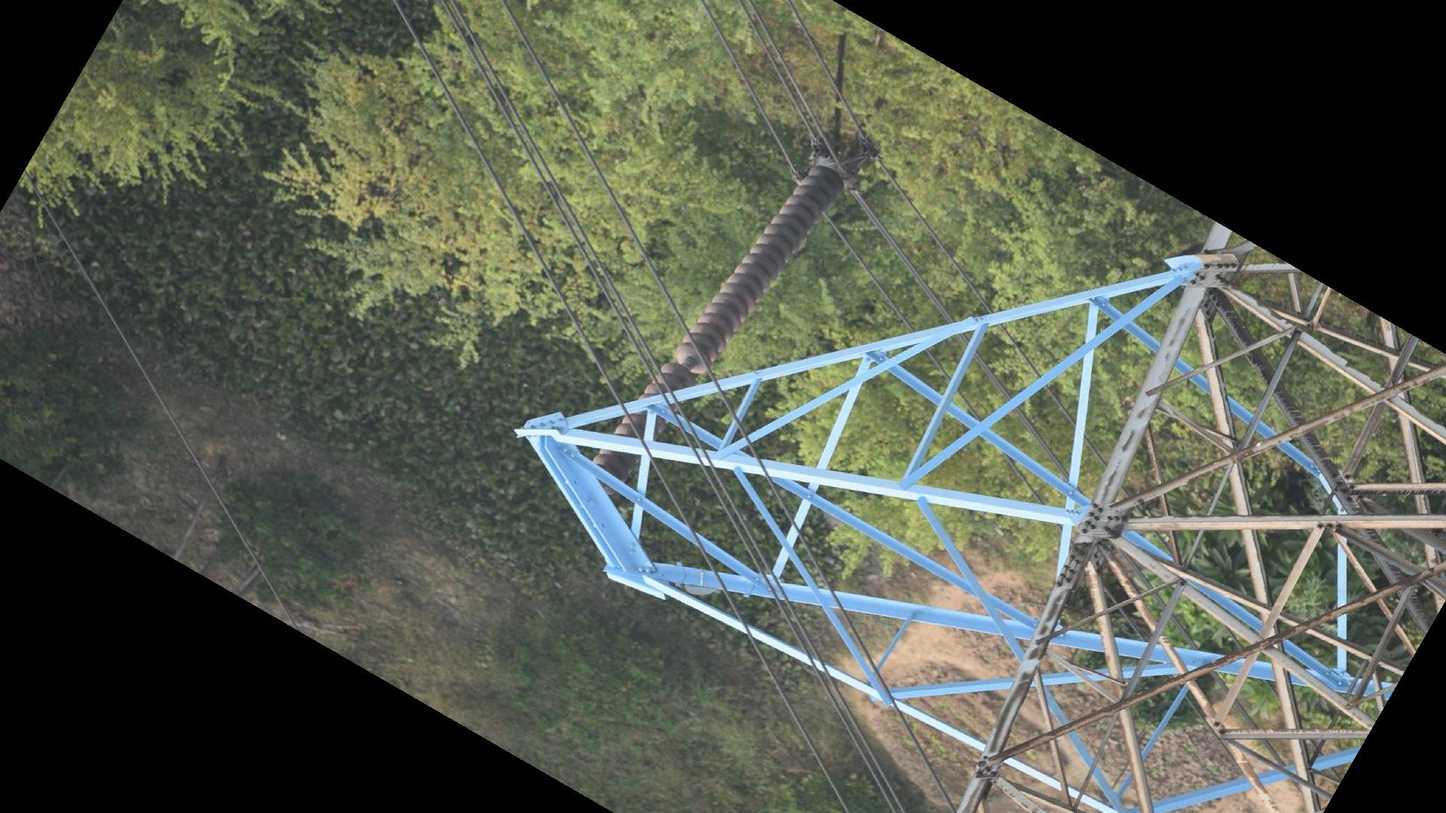insulator: (587, 155, 850, 480)
insulator_stringdrop: (659, 339, 715, 393)
